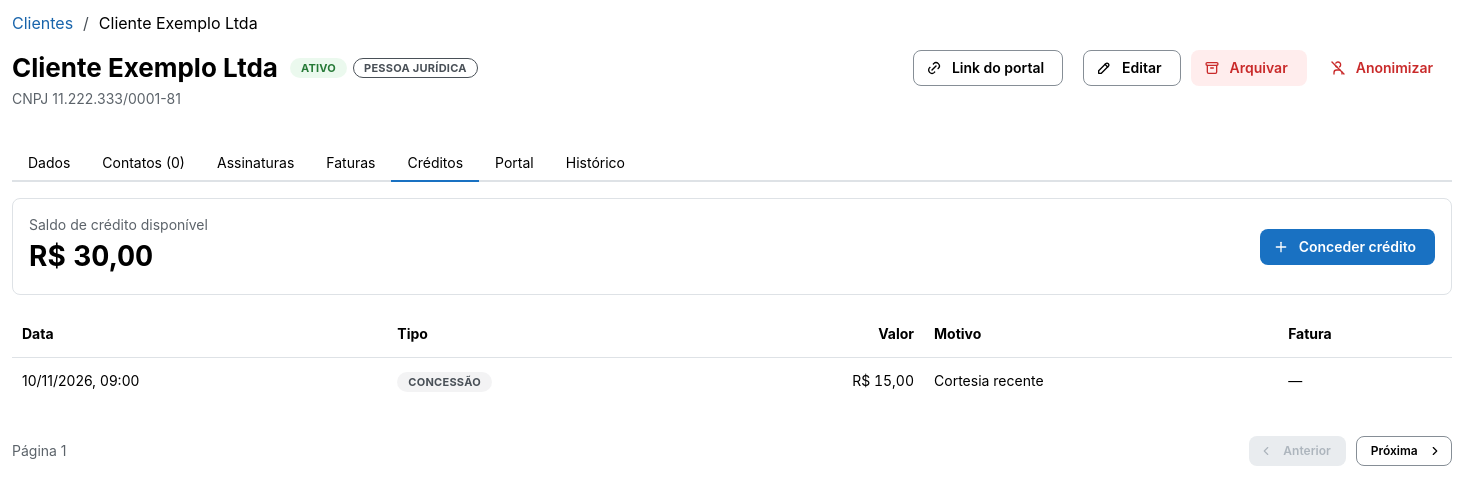
Test: versão do cliente nas alterações › movimentos de crédito seguem o next_cursor
This screenshot has width=1464, height=483.
Expected: the text "Cortesia recente" is shown, x1=924 y1=358 x2=1278 y2=404
What coordinates should you click on to do the following:
click the button "Próxima"
I would click on:
 (1404, 451)
Its box is x1=1356 y1=436 x2=1452 y2=466.
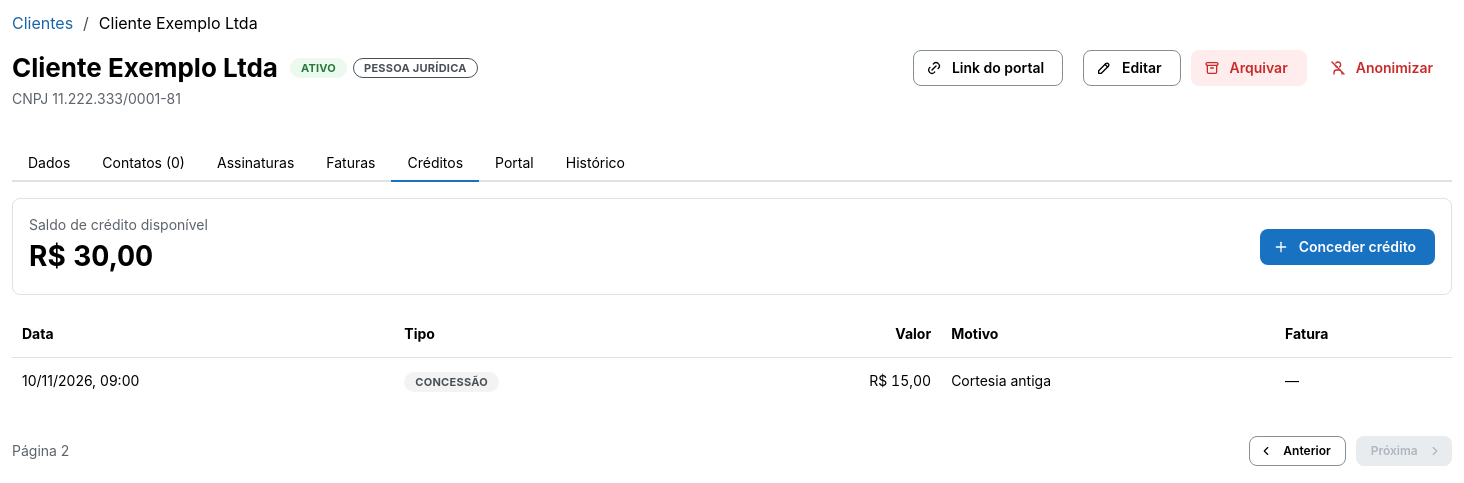
Now the text "Cortesia antiga" is shown, box x1=941 y1=358 x2=1275 y2=404
